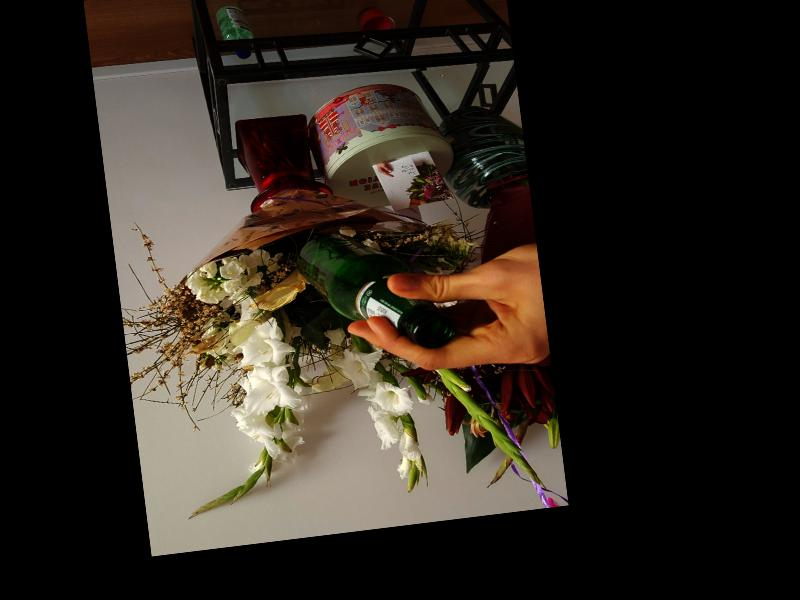Beer: (295, 221, 455, 363)
